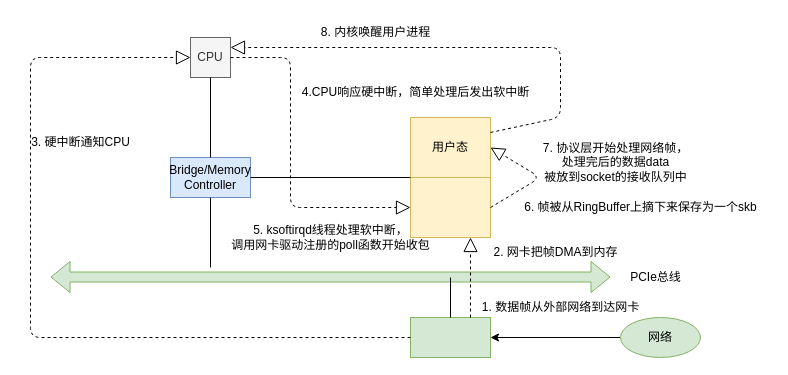
Some shapes in this 788 by 375 pixel diagram are drawn without their labels. The centre of each missing label's shape, as x and y in pixels:
"内核态" goes at [450,207].
"网卡" goes at [450,337].
